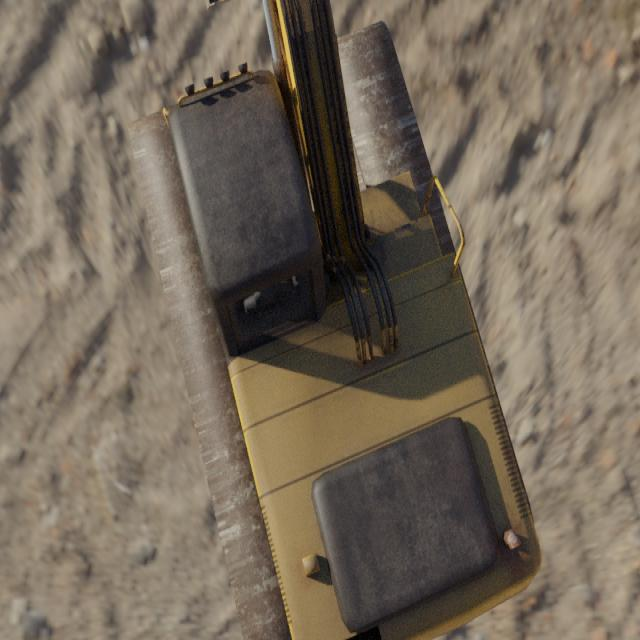excavator: (127, 0, 542, 640)
